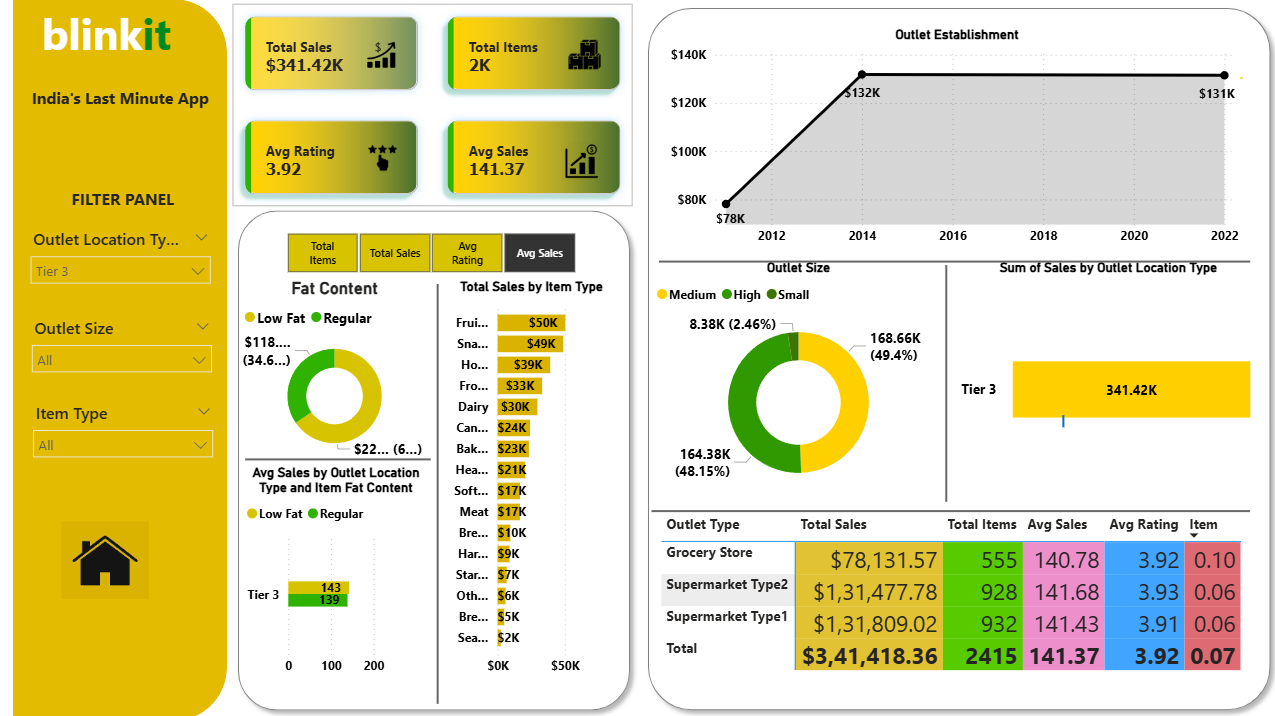

What the dashboard file says about the page in this screenshot:
{"tool":"powerbi","page":{"name":"Page 1","canvas":[1280,720],"ordinal":0},"visuals":[{"type":"shape","box":[14,0,214.3,722],"z":0},{"type":"textbox","box":[0,0,214.8,82.2],"z":1000},{"type":"textbox","box":[19.7,82.3,202.7,38.1],"z":2000},{"type":"cardVisual","fields":{"Data":["BlinkIT Grocery Data.Total Sales","BlinkIT Grocery Data.Total Items","BlinkIT Grocery Data.Avg Rating","BlinkIT Grocery Data.Avg Sales"]},"box":[228.3,0,411.2,213.6],"z":3000},{"type":"shape","box":[229.5,202.5,410,518],"z":4000},{"type":"slicer","fields":{"Values":["Parameter.Parameter"]},"box":[262.7,227.1,337.6,52.8],"z":5000},{"type":"donutChart","title":"Fat Content","fields":{"Category":["BlinkIT Grocery Data.Item Fat Content"],"Y":["BlinkIT Grocery Data.Total Sales"]},"box":[240.6,278.6,191.5,187.8],"z":6000},{"type":"clusteredBarChart","fields":{"Y":["BlinkIT Grocery Data.Avg Sales"],"Category":["BlinkIT Grocery Data.Outlet Location Type"],"Series":["BlinkIT Grocery Data.Item Fat Content"]},"box":[243,466.4,189,218.5],"z":7000},{"type":"barChart","fields":{"Y":["BlinkIT Grocery Data.Total Sales"],"Category":["BlinkIT Grocery Data.Item Type"]},"box":[438.2,279.9,187.8,405.1],"z":8000},{"type":"shape","box":[246.7,448,185.3,25.8],"z":9000},{"type":"shape","box":[432.1,284.8,12.3,419.8],"z":10000},{"type":"shape","box":[639.4,0,640.6,720.2],"z":11000},{"type":"donutChart","title":"Outlet Size","fields":{"Category":["BlinkIT Grocery Data.Outlet Size"],"Y":["Sum(BlinkIT Grocery Data.Sales)"]},"box":[652.7,261.8,294.4,242.5],"z":12000},{"type":"funnel","fields":{"Category":["BlinkIT Grocery Data.Outlet Location Type"],"Y":["Sum(BlinkIT Grocery Data.Sales)"]},"box":[957.9,261.8,304,242.5],"z":13000},{"type":"lineChart","title":"Outlet Establishment","fields":{"Y":["BlinkIT Grocery Data.Total Sales"],"Category":["BlinkIT Grocery Data.Outlet Establishment Year"]},"box":[665.9,27,583.6,227.3],"z":14000},{"type":"pivotTable","fields":{"Rows":["BlinkIT Grocery Data.Outlet Type"],"Values":["BlinkIT Grocery Data.Total Sales","BlinkIT Grocery Data.Total Items","BlinkIT Grocery Data.Avg Sales","BlinkIT Grocery Data.Avg Rating","Avg(BlinkIT Grocery Data.Item Visibility)"]},"box":[657.5,509.1,602,177.3],"z":15000},{"type":"shape","box":[652.7,500.7,598.4,21.7],"z":16000},{"type":"shape","box":[941,266.6,12.1,236.5],"z":17000},{"type":"shape","box":[908.4,416.2,311.3,12.1],"z":18000},{"type":"shape","box":[659.9,247.3,591.2,30.2],"z":19000},{"type":"slicer","fields":{"Values":["BlinkIT Grocery Data.Outlet Location Type"]},"box":[20.9,223.6,200.3,72.5],"z":20000},{"type":"slicer","fields":{"Values":["BlinkIT Grocery Data.Outlet Size"]},"box":[22.1,312.1,200.3,73.7],"z":21000},{"type":"slicer","fields":{"Values":["BlinkIT Grocery Data.Item Type"]},"box":[23.3,398.1,200.3,72.5],"z":22000},{"type":"textbox","box":[22.1,184.3,202.7,38.1],"z":23000},{"type":"actionButton","box":[62.7,522.2,87.2,77.4],"z":24000}]}

Visuals, with their boxes in screenshot pixels (x1, y1, x2, y2), scaled from the page's 1280x720 canvas onto the 1275x716 screenshot:
shape: crop(14, 0, 227, 715)
textbox: crop(0, 0, 214, 82)
textbox: crop(20, 82, 222, 120)
cardVisual - BlinkIT Grocery Data.Total Sales x BlinkIT Grocery Data.Total Items: crop(227, 0, 637, 212)
shape: crop(229, 201, 637, 715)
slicer - Parameter.Parameter: crop(262, 226, 598, 278)
"Fat Content" donutChart: crop(240, 277, 430, 464)
clusteredBarChart - BlinkIT Grocery Data.Avg Sales x BlinkIT Grocery Data.Outlet Location Type: crop(242, 464, 430, 681)
barChart - BlinkIT Grocery Data.Total Sales x BlinkIT Grocery Data.Item Type: crop(436, 278, 624, 681)
shape: crop(246, 446, 430, 471)
shape: crop(430, 283, 443, 701)
shape: crop(637, 0, 1274, 715)
"Outlet Size" donutChart: crop(650, 260, 943, 501)
funnel - BlinkIT Grocery Data.Outlet Location Type x Sum(BlinkIT Grocery Data.Sales): crop(954, 260, 1257, 501)
"Outlet Establishment" lineChart: crop(663, 27, 1245, 253)
pivotTable - BlinkIT Grocery Data.Outlet Type x BlinkIT Grocery Data.Total Sales: crop(655, 506, 1255, 683)
shape: crop(650, 498, 1246, 519)
shape: crop(937, 265, 949, 500)
shape: crop(905, 414, 1215, 426)
shape: crop(657, 246, 1246, 276)
slicer - BlinkIT Grocery Data.Outlet Location Type: crop(21, 222, 220, 294)
slicer - BlinkIT Grocery Data.Outlet Size: crop(22, 310, 222, 384)
slicer - BlinkIT Grocery Data.Item Type: crop(23, 396, 223, 468)
textbox: crop(22, 183, 224, 221)
actionButton: crop(62, 519, 149, 596)
